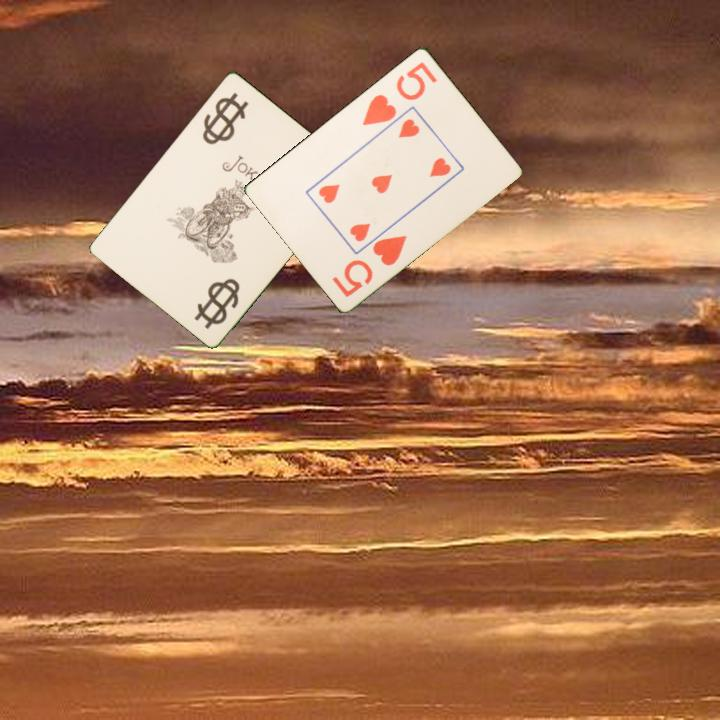5h: (358, 57, 441, 128), (328, 231, 410, 300)
JK: (190, 274, 243, 332), (202, 97, 242, 143)
